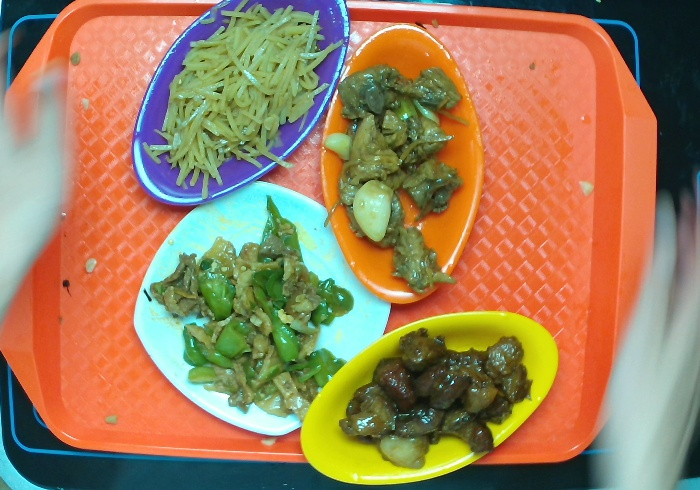RJxy-Fen_Hong_Tuo_Yuan: (126, 1, 354, 211)
RJxy-Huang_Se_Tuo_Yuan: (296, 306, 563, 490)
RJxy-Ju_Huang_Tuo_Yuan: (314, 18, 491, 309)
RJxy-Si_Fang_Die: (128, 177, 394, 441)
